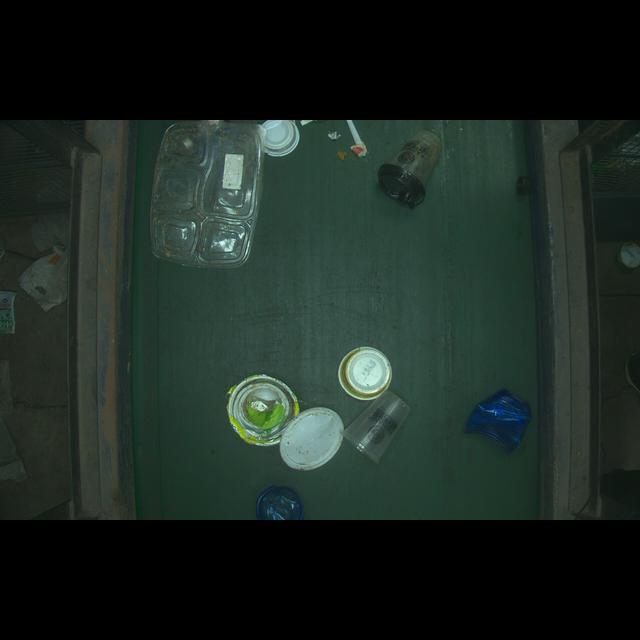mix rigid: (147, 116, 263, 271), (217, 364, 297, 450), (461, 376, 544, 456), (372, 126, 448, 204), (332, 345, 396, 403)
